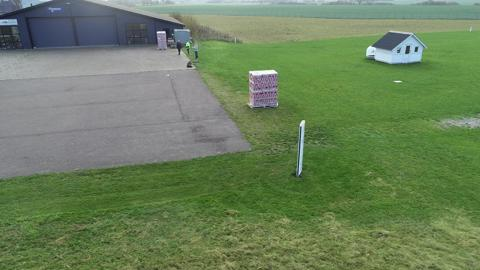RockwoolPallet: (156, 31, 168, 50)
